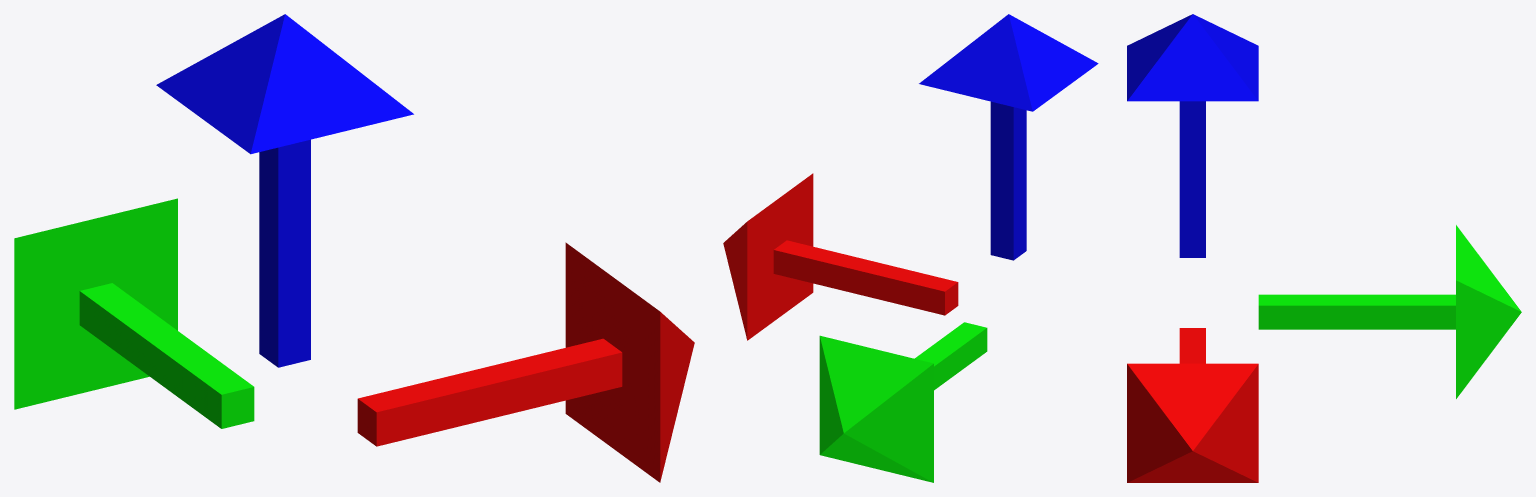
The model's file is Coords.gltf.
3 renders of one model, left to right at view 1: azimuth 30°, elevation 25°; view 2: azimuth 150°, elevation 25°; view 3: azimuth 270°, elevation 25°, orthographic. The views are drawn at different scales.
Parts seen in each view (by area): view 1: Coords; view 2: Coords; view 3: Coords.
Boxes of the visible parts, x1=… form: Coords: x1=14, y1=14, x2=694, y2=482; Coords: x1=723, y1=14, x2=1098, y2=482; Coords: x1=1127, y1=14, x2=1521, y2=482.
Size of the model in its own units: 6 by 6 by 6.
